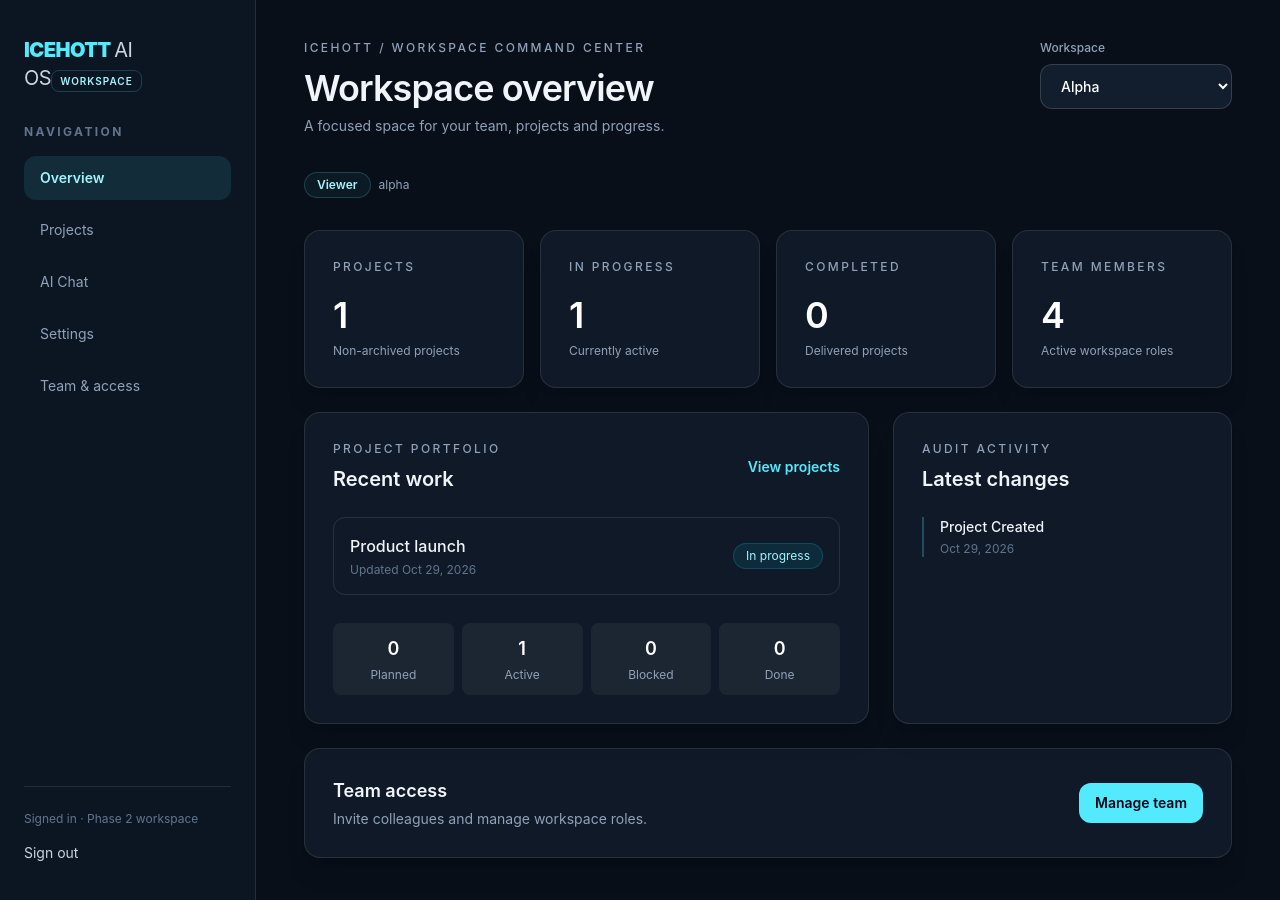
Test case: Phase 2 role-gated workspace dashboard › loads authoritative stats and audit and keeps Viewer read-only
Check: the heading "Workspace overview" is shown, box 304,68 -> 664,108
Check: the text "Product launch" is shown, box 350,534 -> 476,558
Click the button "Projects" at (128, 230), box 24,208 -> 231,252
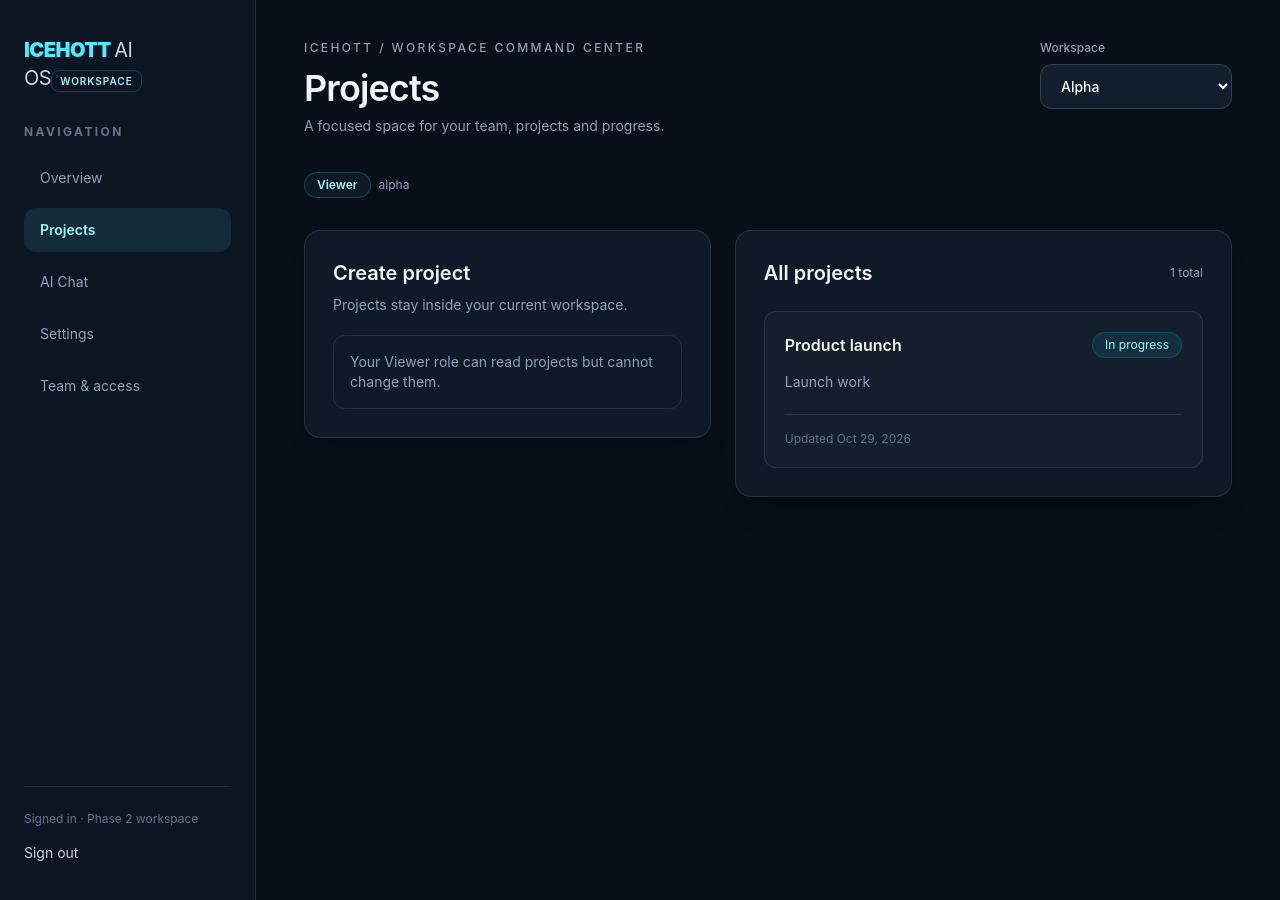
Check: the text "Your Viewer role can read projects but cannot change them." is shown, box 333,335 -> 682,409
Check: the text "archive" is gone
Click the button "Settings" at (128, 334), box 24,312 -> 231,356
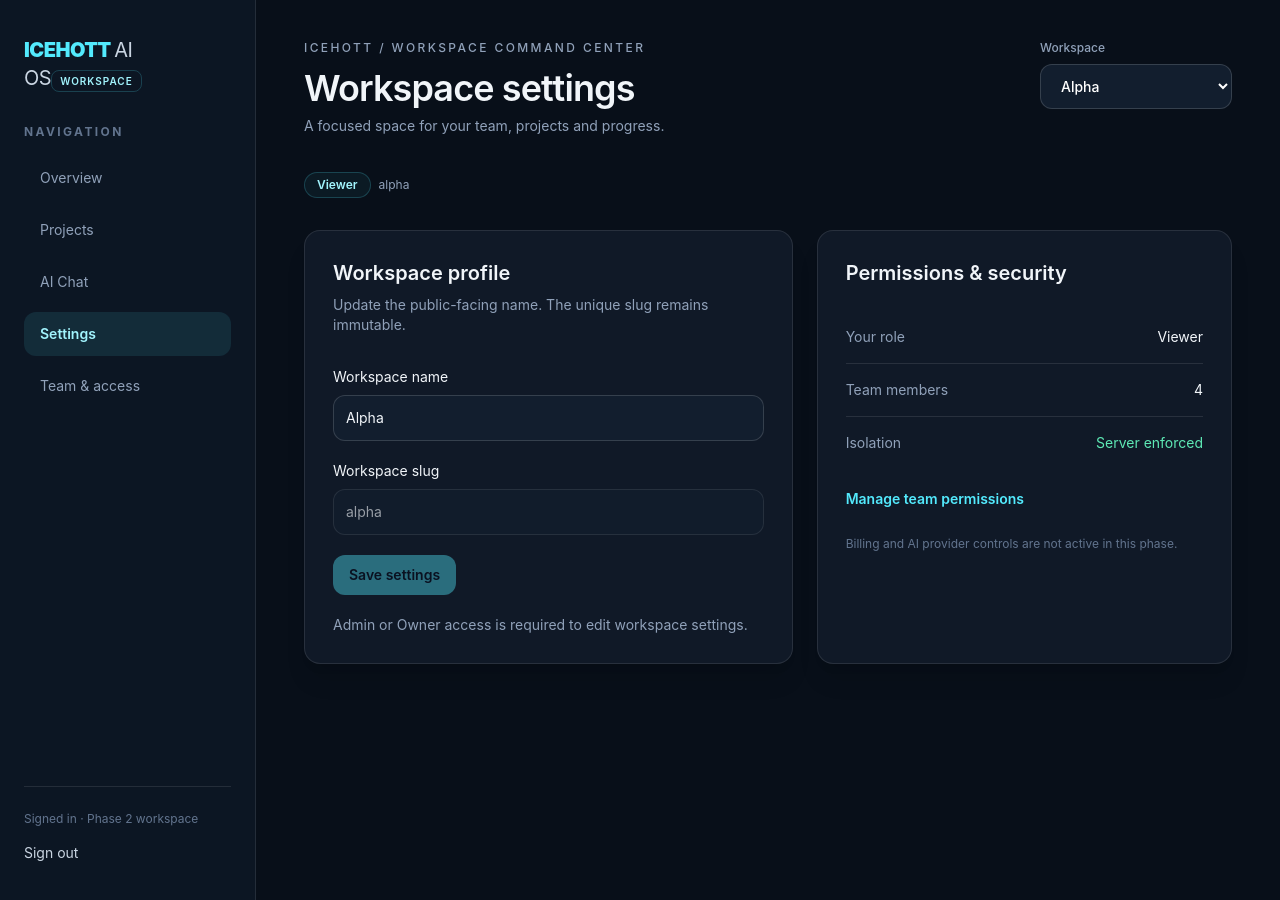
Check: the text "Admin or Owner access is required" is shown, box 333,616 -> 748,633
Check: the button "Save settings" is disabled, box 333,555 -> 456,595
